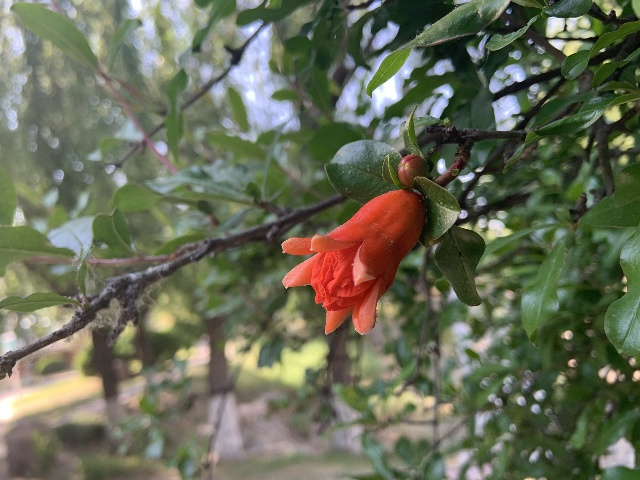bud: (397, 154, 426, 188)
flower: (280, 187, 424, 335)
